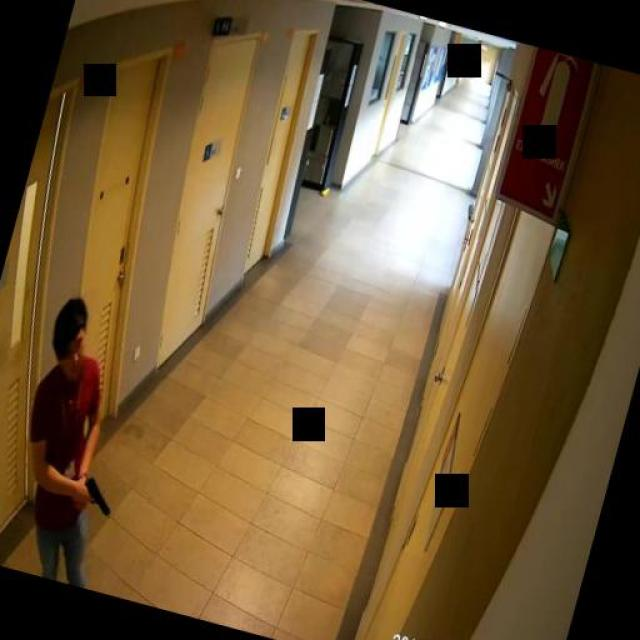gun: (74, 473, 115, 515)
